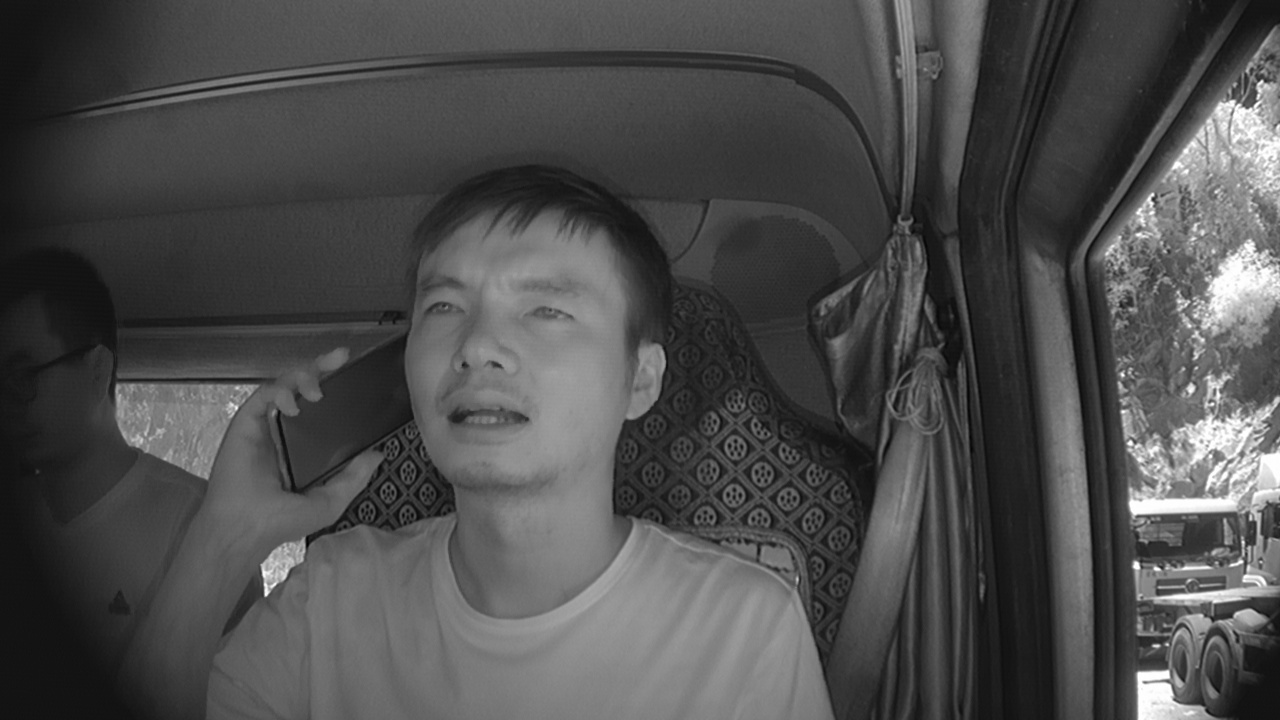hand: (217, 343, 353, 538)
